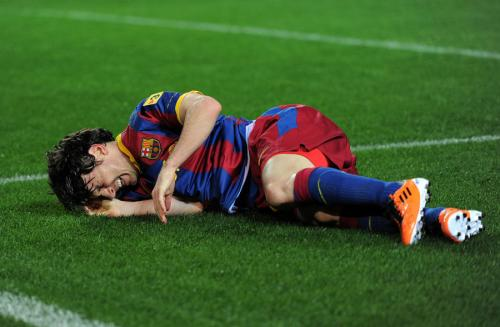down: (41, 85, 488, 253)
